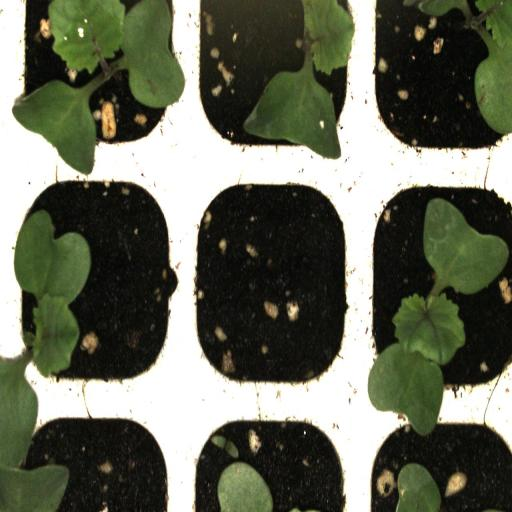Folha: (13, 78, 102, 175), (395, 463, 441, 512)
Germinacao: (7, 165, 185, 404), (358, 173, 512, 408), (7, 0, 186, 173), (186, 0, 360, 173), (360, 1, 512, 170)
